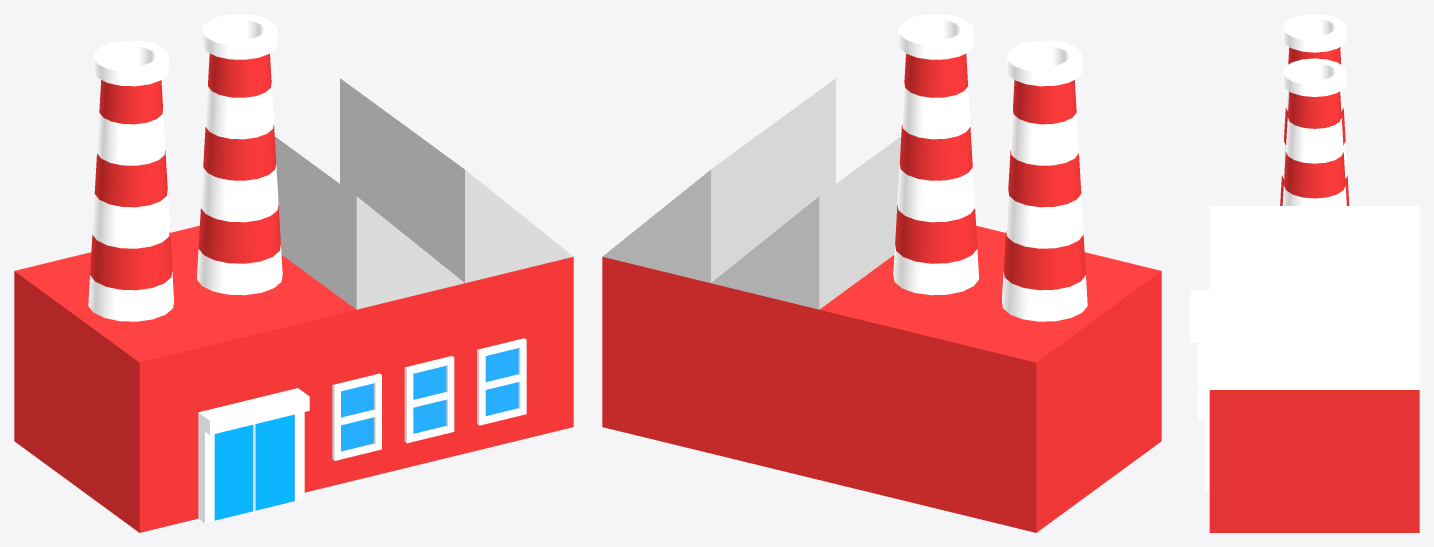
The model's file is factory.gltf.
3 renders of one model, left to right at view 1: azimuth 30°, elevation 25°; view 2: azimuth 150°, elevation 25°; view 3: azimuth 270°, elevation 25°, orthographic. The views are drawn at different scales.
Parts seen in each view (by area): view 1: Cube.496; view 2: Cube.496; view 3: Cube.496.
Part boxes in pixels (x1=…): Cube.496: x1=14, y1=14, x2=573, y2=532; Cube.496: x1=602, y1=14, x2=1161, y2=532; Cube.496: x1=1190, y1=14, x2=1419, y2=532.
Bounding box in the file's own units: 2.16 × 2 × 1.18.
Materials: 1 (1 with a texture image).
